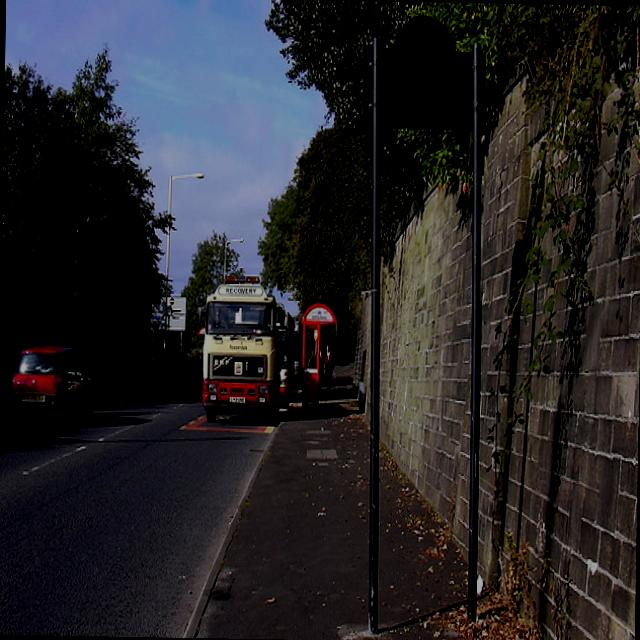Vehicle: (194, 272, 284, 428), (196, 276, 284, 425), (10, 346, 94, 426), (274, 302, 296, 404)
